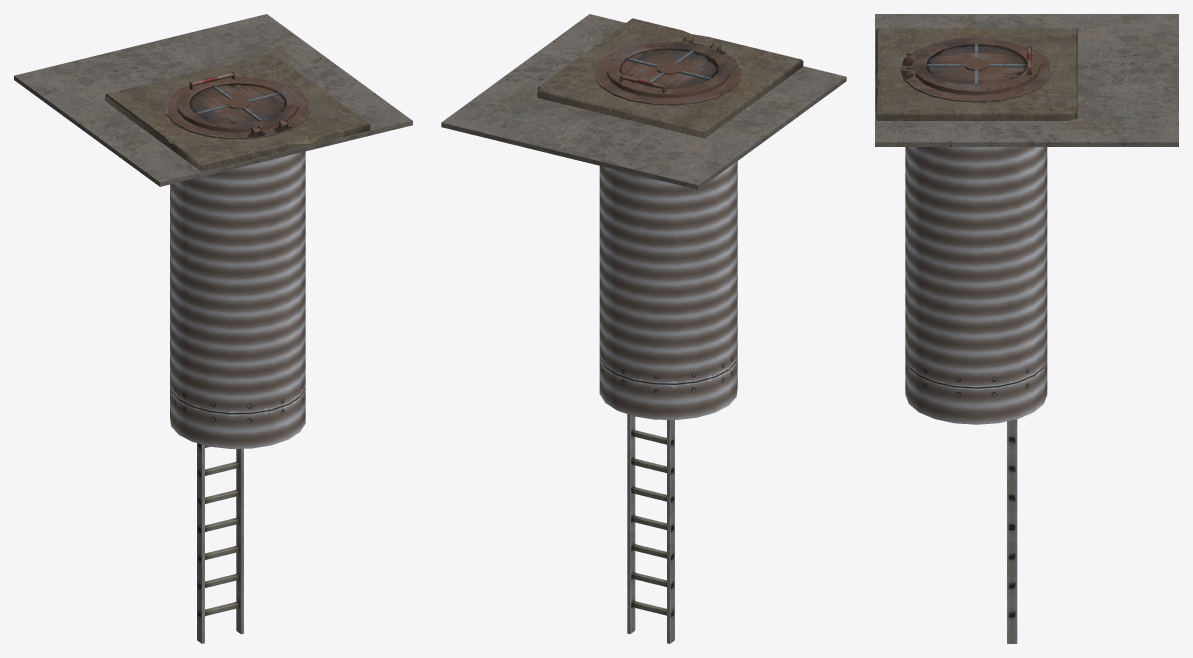
The model's file is bunkerEntrance03.FBX.
3 renders of one model, left to right at view 1: azimuth 30°, elevation 25°; view 2: azimuth 150°, elevation 25°; view 3: azimuth 270°, elevation 25°, orthographic. The views are drawn at different scales.
Parts seen in each view (by area): view 1: bunkerEntrance03_tube02, bunkerEntrance03_floor, bunkerEntrance03_edge, bunkerEntrance03_tubeEnd, bunkerEntrance03_hatch, bunkerEntrance03, bunkerEntrance03_tube01; view 2: bunkerEntrance03_tube01, bunkerEntrance03_floor, bunkerEntrance03_edge, bunkerEntrance03_tubeEnd, bunkerEntrance03_hatch, bunkerEntrance03, bunkerEntrance03_tube02; view 3: bunkerEntrance03_floor, bunkerEntrance03_tube02, bunkerEntrance03_tube01, bunkerEntrance03_edge, bunkerEntrance03_tubeEnd, bunkerEntrance03_hatch, bunkerEntrance03.
Part boxes in pixels (bbox=[...]): bunkerEntrance03_tube02: bbox=[178, 151, 305, 413]; bunkerEntrance03_floor: bbox=[14, 14, 412, 186]; bunkerEntrance03_edge: bbox=[105, 54, 370, 171]; bunkerEntrance03_tubeEnd: bbox=[170, 384, 305, 643]; bunkerEntrance03_hatch: bbox=[176, 71, 298, 133]; bunkerEntrance03: bbox=[165, 76, 310, 139]; bunkerEntrance03_tube01: bbox=[170, 182, 178, 398]; bunkerEntrance03_tube01: bbox=[599, 166, 728, 384]; bunkerEntrance03_floor: bbox=[441, 14, 846, 189]; bunkerEntrance03_edge: bbox=[537, 18, 803, 138]; bunkerEntrance03_tubeEnd: bbox=[599, 354, 737, 643]; bunkerEntrance03_hatch: bbox=[606, 38, 730, 98]; bunkerEntrance03: bbox=[594, 36, 742, 105]; bunkerEntrance03_tube02: bbox=[728, 161, 737, 369]; bunkerEntrance03_floor: bbox=[875, 14, 1178, 146]; bunkerEntrance03_tube02: bbox=[905, 147, 976, 387]; bunkerEntrance03_tube01: bbox=[976, 147, 1047, 387]; bunkerEntrance03_edge: bbox=[876, 28, 1077, 120]; bunkerEntrance03_tubeEnd: bbox=[905, 358, 1047, 643]; bunkerEntrance03_hatch: bbox=[906, 37, 1040, 95]; bunkerEntrance03: bbox=[900, 37, 1052, 102].
Bounding box in the file's own units: 300 × 628 × 300.
